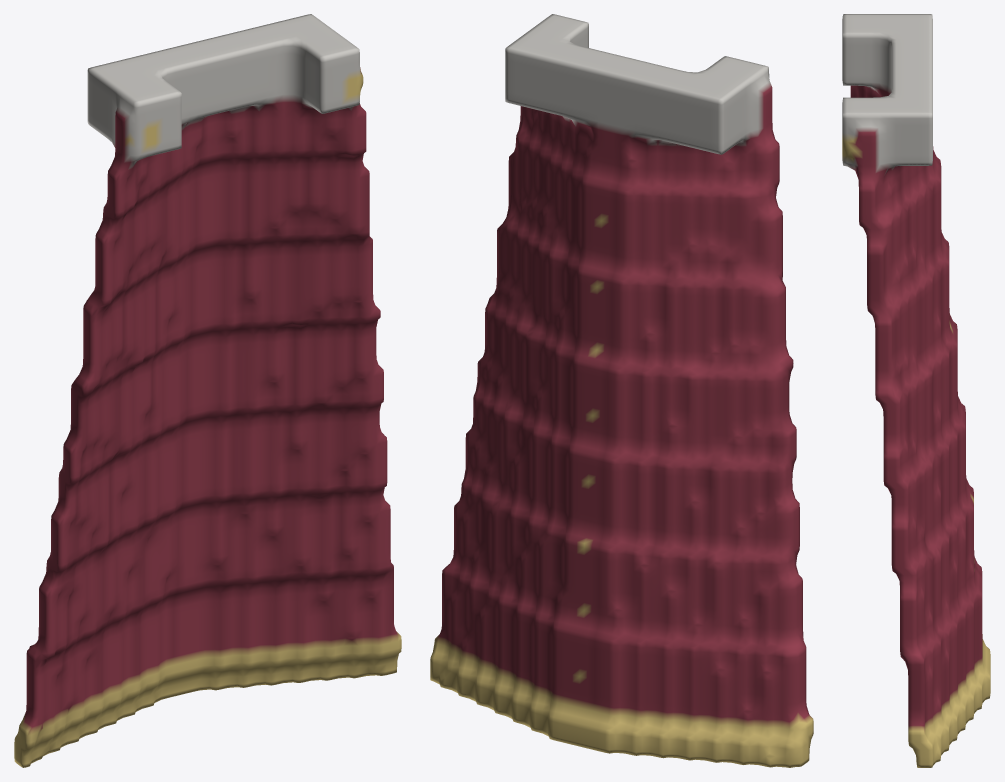
The model's file is plate_epic_cloak.glb.
3 views of the same model, side by side, from view 1: azimuth 30°, elevation 25°; view 2: azimuth 150°, elevation 25°; view 3: azimuth 270°, elevation 25° (orthographic). The views are drawn at different scales.
Visible parts, largest first — view 1: plate_epic_cloak; view 2: plate_epic_cloak; view 3: plate_epic_cloak.
Boxes of the visible parts, x1,y1,x2,y2 form: plate_epic_cloak: [14, 14, 401, 767]; plate_epic_cloak: [430, 14, 813, 767]; plate_epic_cloak: [842, 14, 990, 767].
Size of the model in its own units: 0.588 by 0.996 by 0.216.
